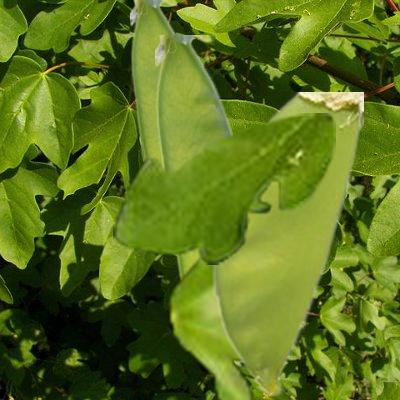pea: (212, 92, 362, 394), (155, 35, 232, 276), (130, 0, 179, 158)
